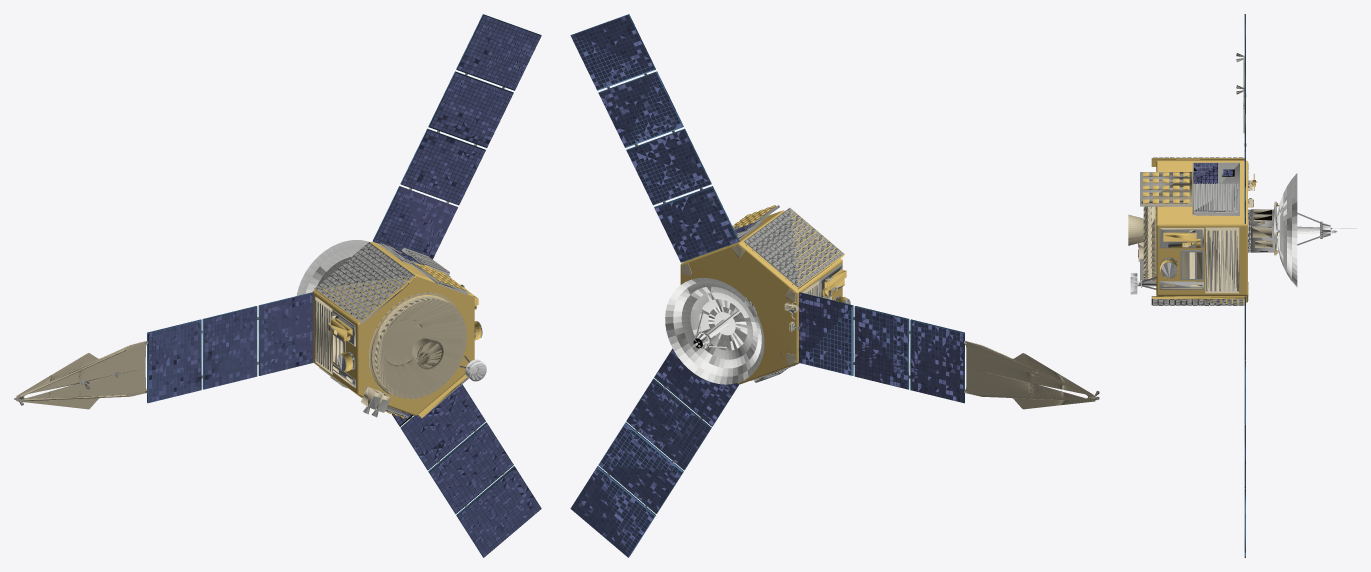
Rendered from ok-juno.glb.
3 views of the same model, side by side, from view 1: azimuth 30°, elevation 25°; view 2: azimuth 150°, elevation 25°; view 3: azimuth 270°, elevation 25° (orthographic).
Visible parts, largest first — view 1: imagetostl_mesh0; view 2: imagetostl_mesh0; view 3: imagetostl_mesh0.
Part boxes in pixels (x1,y1,x2,y2): imagetostl_mesh0: (14, 14, 541, 557); imagetostl_mesh0: (570, 14, 1099, 557); imagetostl_mesh0: (1128, 14, 1356, 557).
Size of the model in its own units: 23.26 by 22.92 by 8.73.
